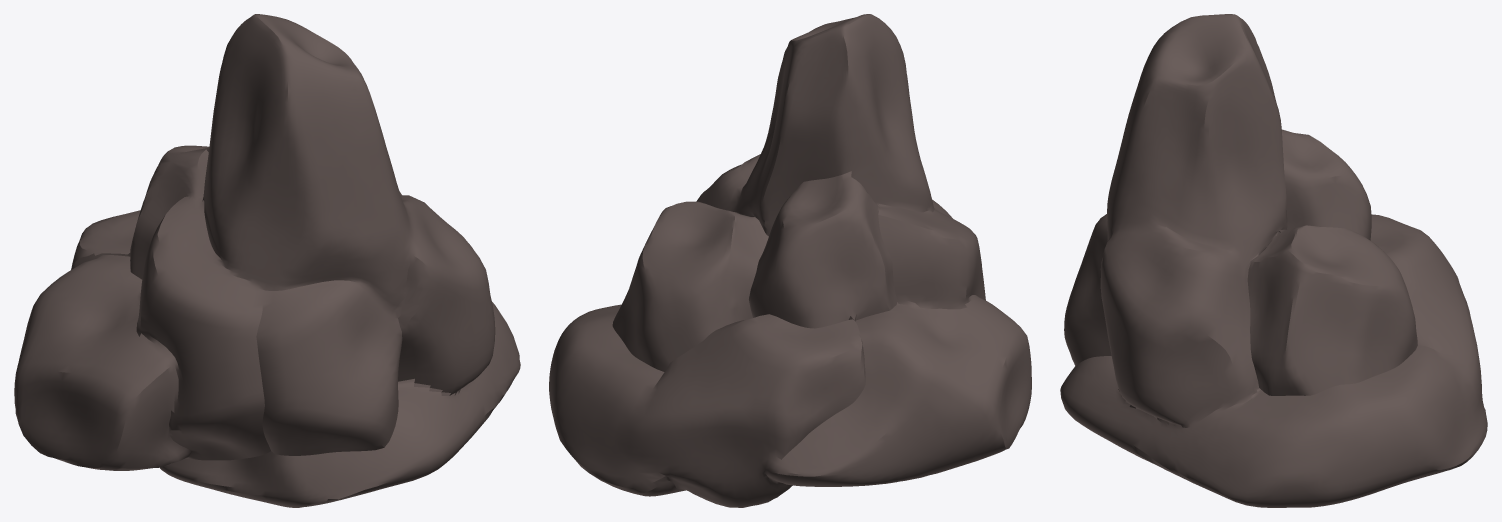
File: Environment_Cliff3.glb
3 renders of one model, left to right at view 1: azimuth 30°, elevation 25°; view 2: azimuth 150°, elevation 25°; view 3: azimuth 270°, elevation 25°, orthographic. The views are drawn at different scales.
Parts seen in each view (by area): view 1: Environment_Cliff3; view 2: Environment_Cliff3; view 3: Environment_Cliff3.
Part boxes in pixels (x1,y1,x2,y2): Environment_Cliff3: [14, 14, 520, 507]; Environment_Cliff3: [549, 14, 1031, 507]; Environment_Cliff3: [1060, 14, 1487, 507].
Size of the model in its own units: 6.86 by 6.17 by 5.95.
1 material, 1 textured.
